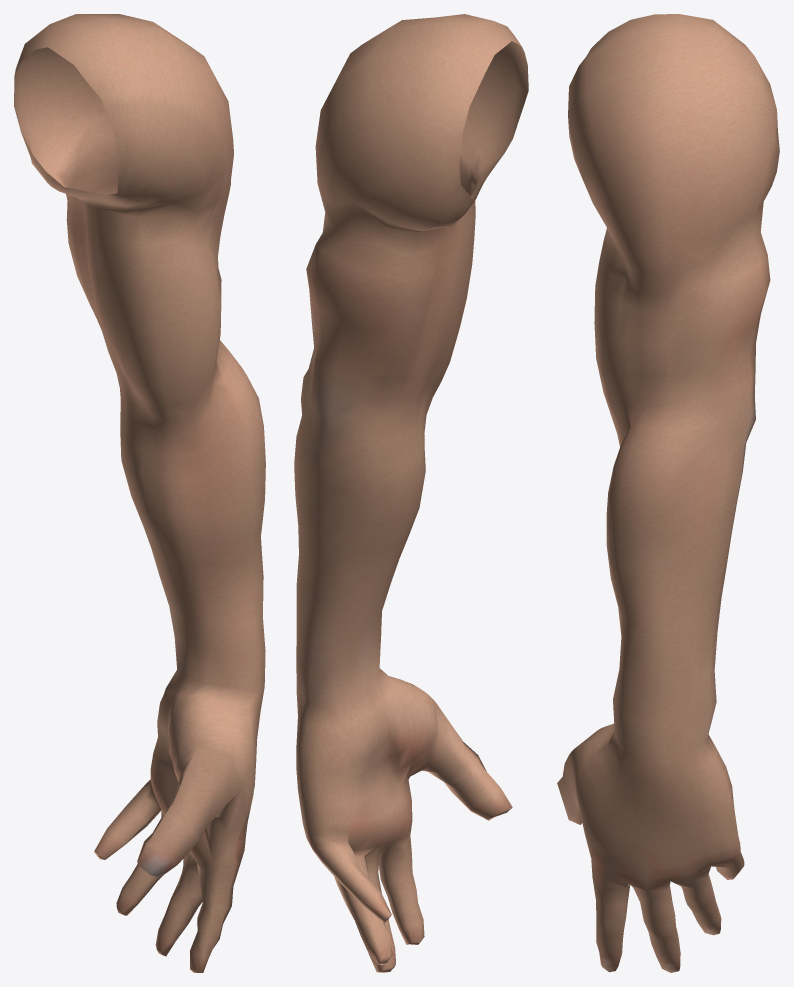
Rendered from arm_anatomy.glb.
3 views of the same model, side by side, from view 1: azimuth 30°, elevation 25°; view 2: azimuth 150°, elevation 25°; view 3: azimuth 270°, elevation 25° (orthographic). The views are drawn at different scales.
Parts seen in each view (by area): view 1: g; view 2: g; view 3: g.
Boxes of the visible parts, x1,y1,x2,y2 form: g: [14, 14, 265, 972]; g: [294, 14, 528, 972]; g: [557, 14, 779, 972].
Size of the model in its own units: 0.4441 by 2 by 0.4397.
1 material, 1 textured.
